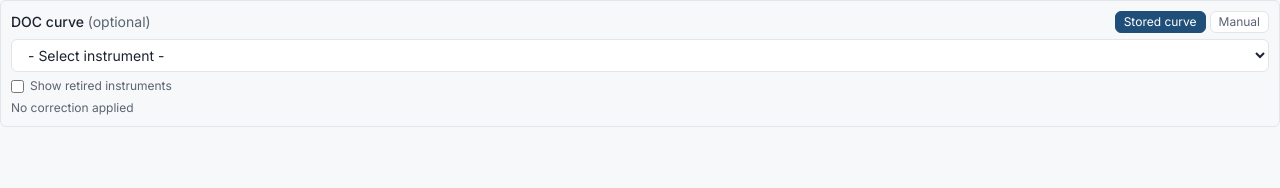
Test case: CurvePicker › offers a create control on an instrument carrying no curves
Select "Lab DOC (Field)" in the dropdown named "DOC curve instrument" at (640, 56), box [11,39,1269,72]
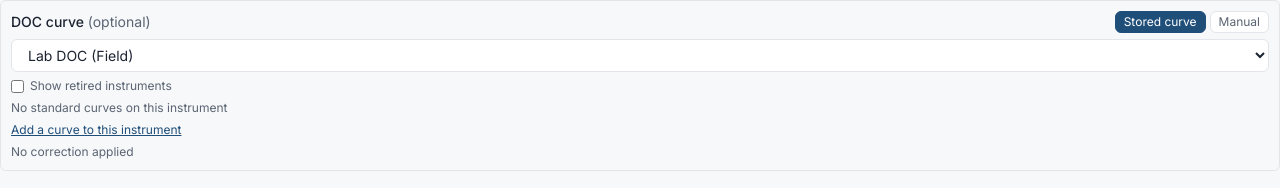
Result: the text "No standard curves on this instrument" is shown at [11,100,228,115]
Result: the button "Add a curve to this instrument" is shown at [11,122,181,138]
